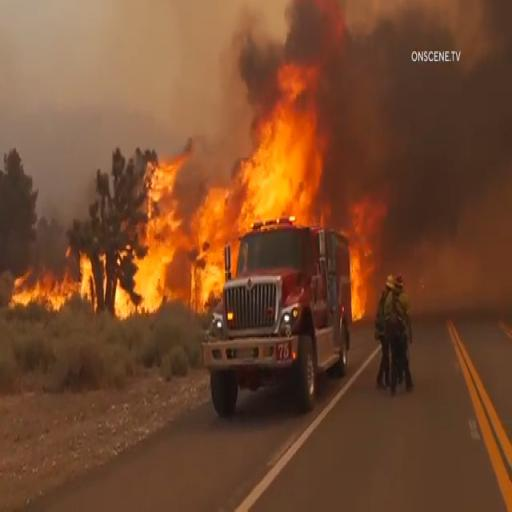fire: (66, 156, 190, 313), (241, 60, 314, 224), (342, 196, 388, 311), (0, 260, 75, 327), (188, 195, 232, 305)
smoke: (399, 95, 497, 250)
